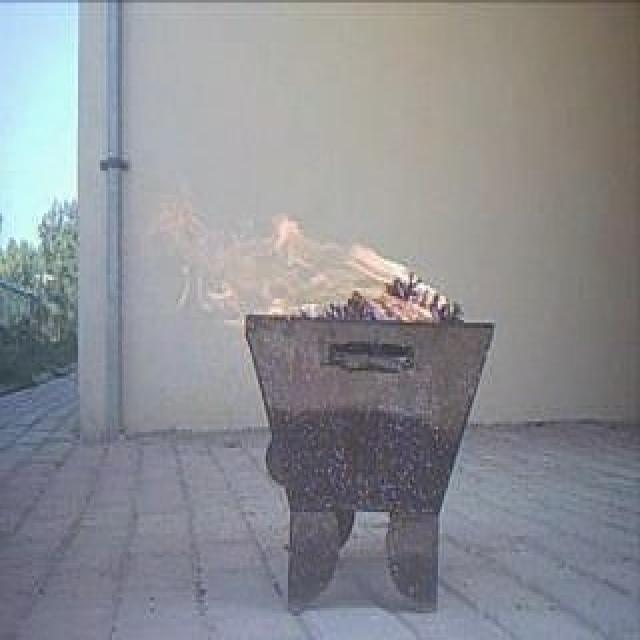fire: (158, 204, 458, 320)
